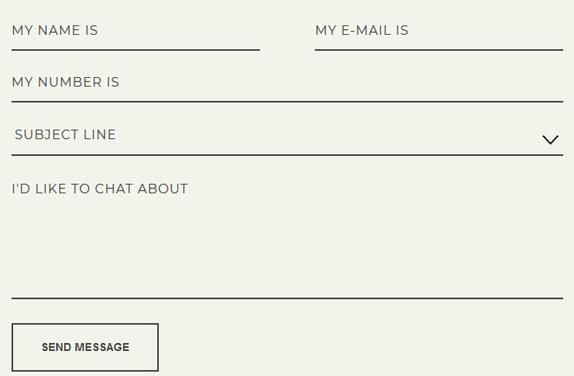button: (11, 322, 159, 373)
field_line: (8, 73, 567, 105), (12, 127, 564, 157), (9, 22, 267, 55), (314, 19, 564, 53)
